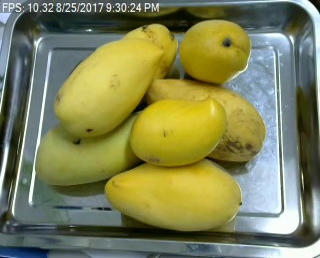Mango: (55, 37, 162, 135), (106, 157, 242, 231), (145, 80, 266, 162), (33, 114, 145, 186), (129, 95, 225, 167), (179, 17, 250, 84), (119, 22, 177, 77)
